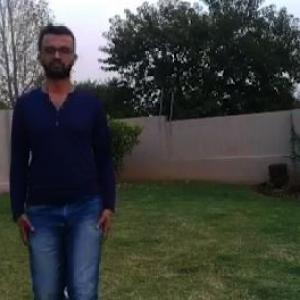follow: (17, 32, 109, 299)
